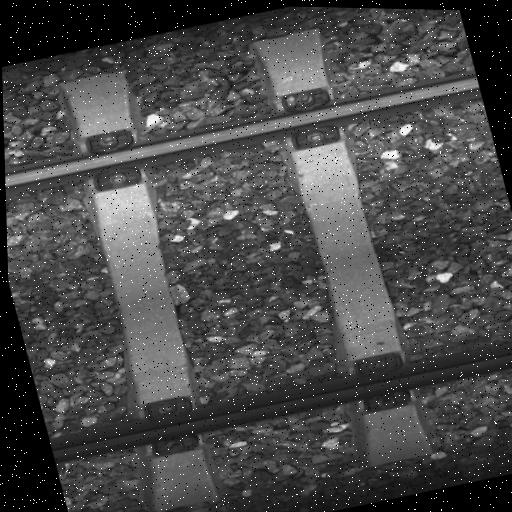clips: (131, 392, 207, 461), (349, 351, 412, 416), (81, 130, 140, 192), (281, 86, 337, 149)
sleepers: (36, 64, 241, 512), (249, 24, 438, 473)
